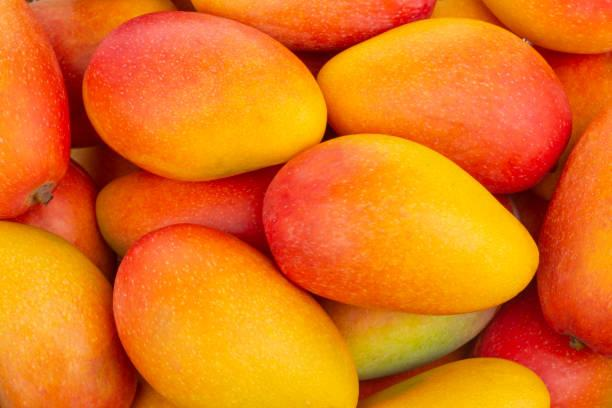mango: (258, 139, 538, 323), (315, 13, 574, 198), (115, 216, 360, 408), (79, 3, 331, 187), (1, 218, 141, 408), (537, 107, 612, 360), (2, 0, 69, 217), (195, 1, 452, 47), (366, 353, 554, 408)
